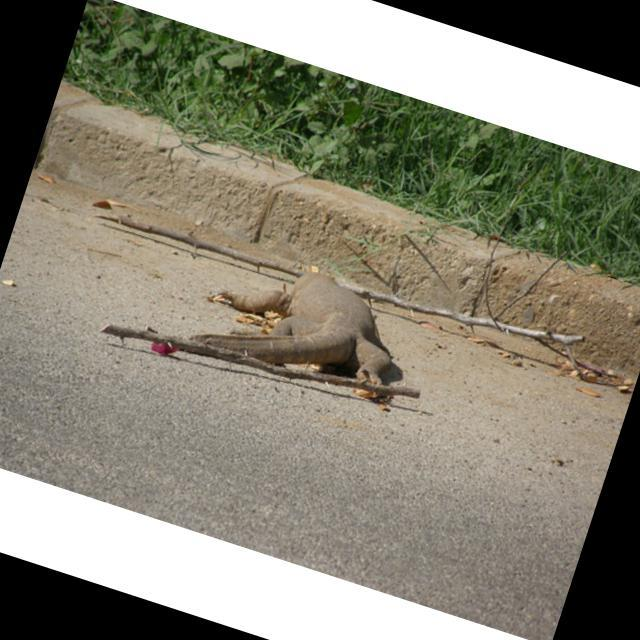KomodoDragon: (148, 226, 419, 425)
